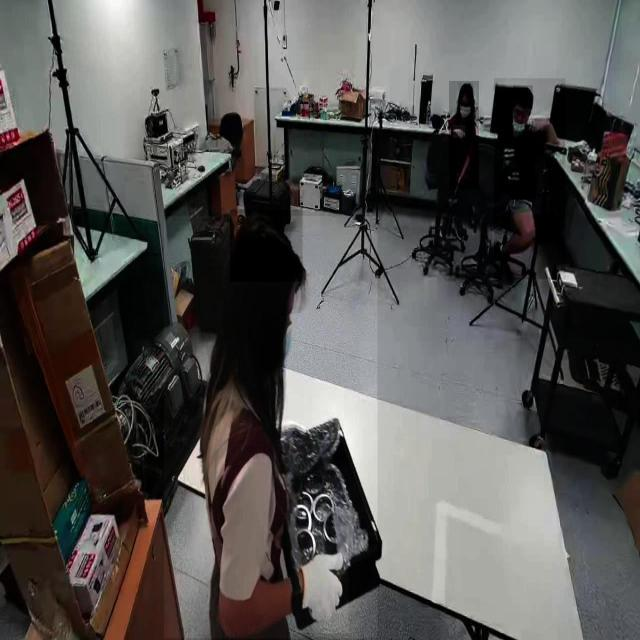face_mask: (456, 90, 472, 130)
hand_glove: (295, 526, 349, 634)
hand_noglove: (527, 115, 547, 132), (453, 125, 466, 139), (452, 175, 462, 191)
head_nohelmet: (230, 210, 303, 282), (513, 85, 533, 103), (458, 83, 474, 94)
person: (164, 216, 378, 639), (494, 78, 566, 280), (449, 81, 479, 190)
